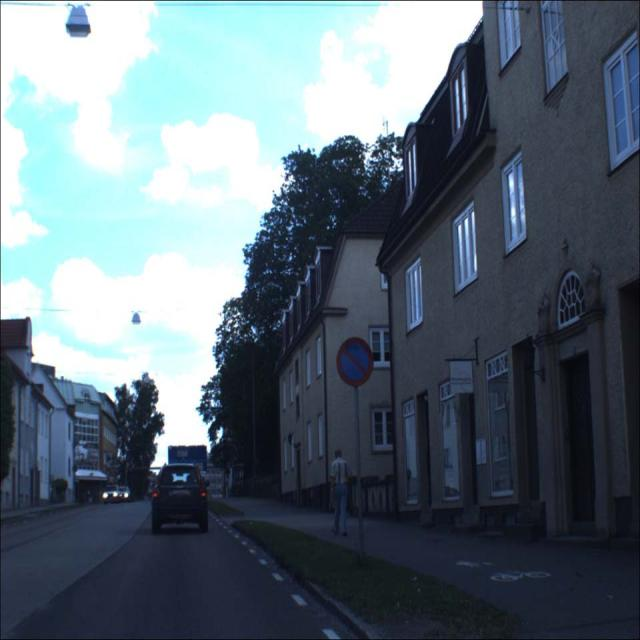parkyasak: (337, 338, 374, 388)
